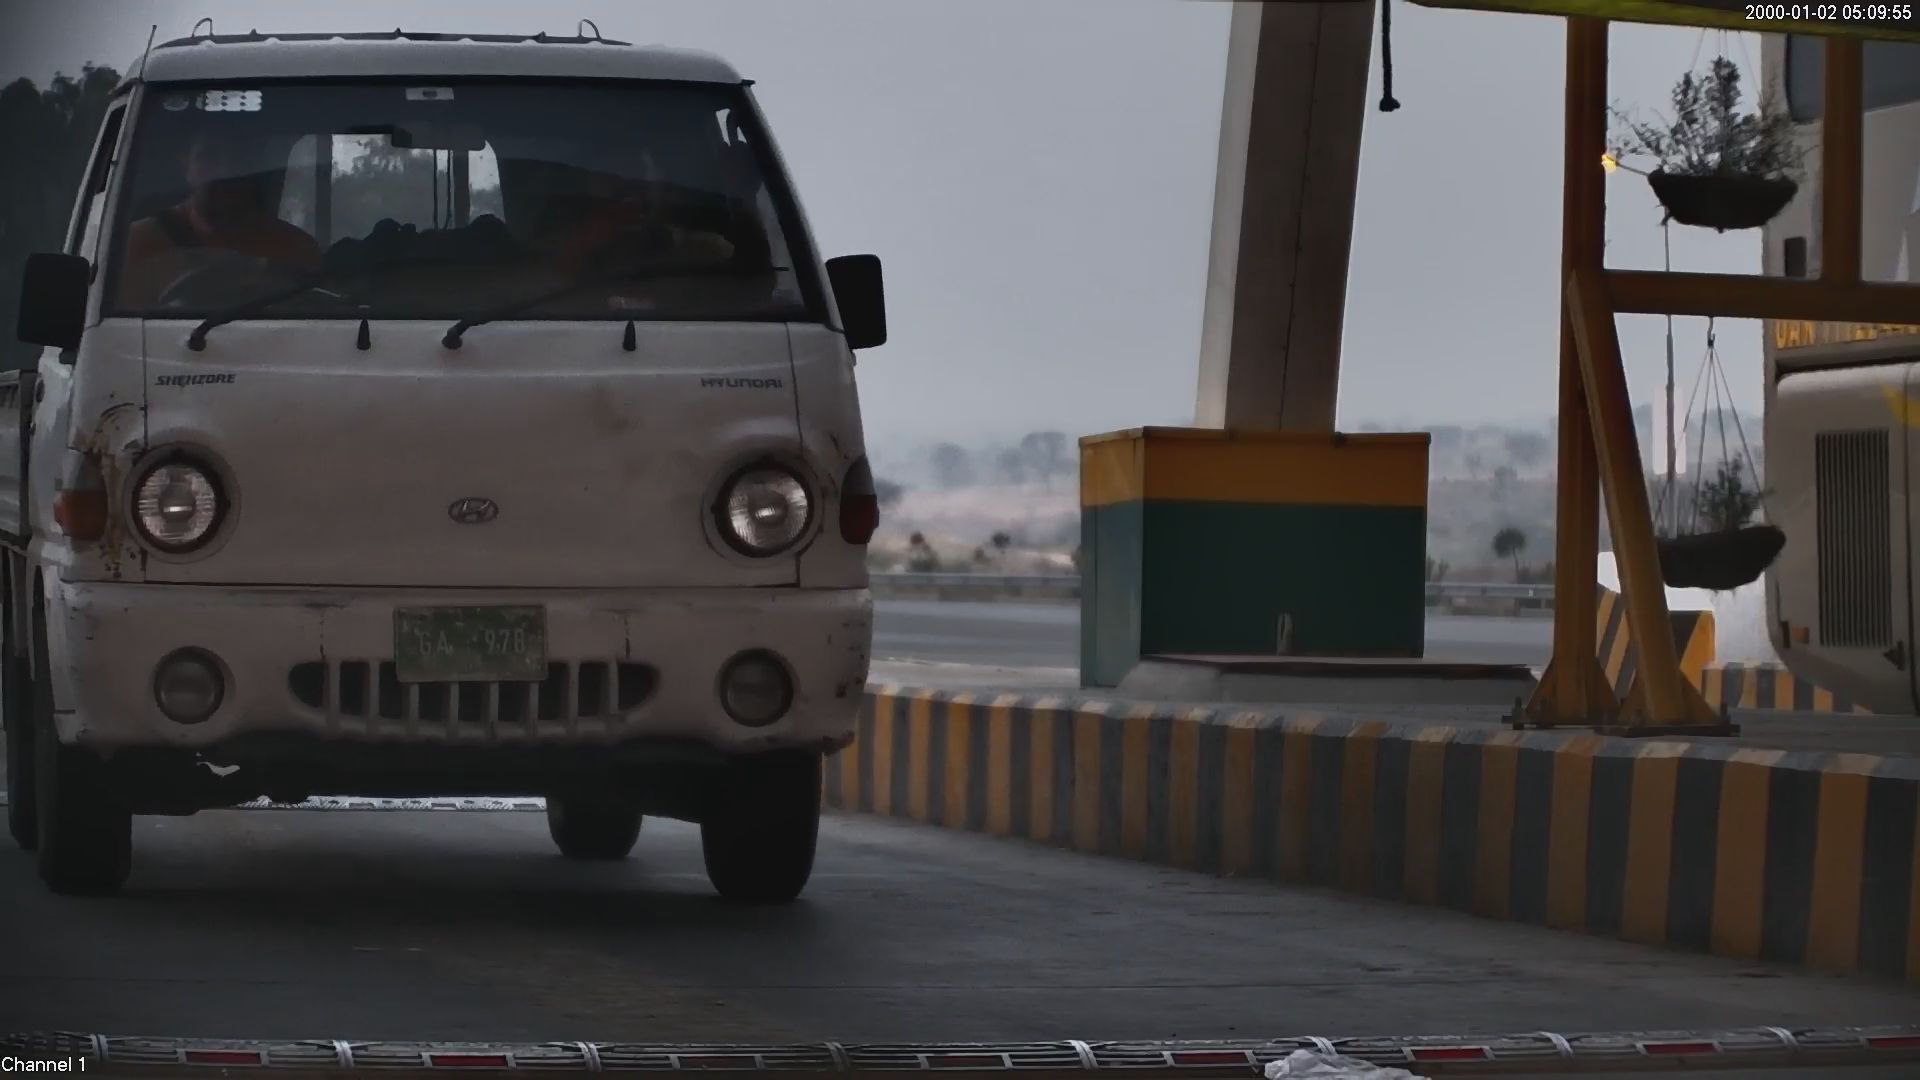Number_Plate: (384, 597, 559, 695)
